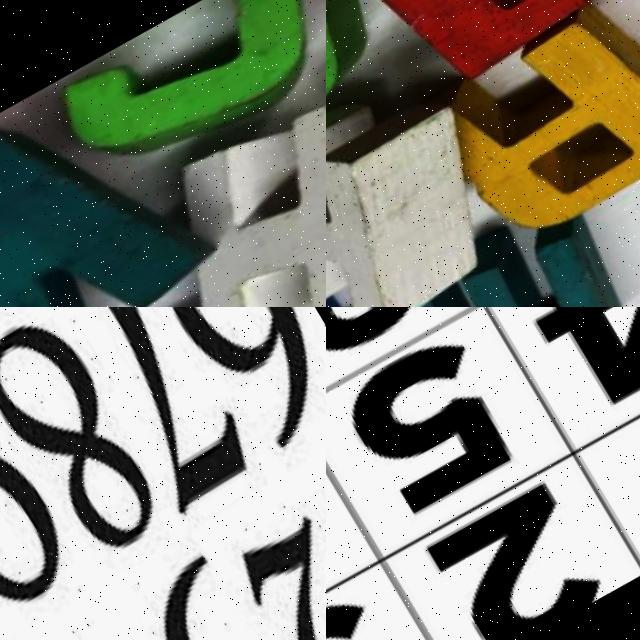2: (417, 462, 613, 640), (220, 491, 326, 640)
3: (123, 531, 326, 640), (326, 573, 419, 640)
4: (512, 307, 640, 415)
5: (328, 313, 525, 521)
6: (131, 307, 326, 467)
7: (45, 307, 268, 522)
8: (0, 307, 182, 573)
9: (0, 351, 92, 631)
H: (99, 14, 326, 307), (326, 57, 519, 307)
K: (0, 45, 258, 307)
M: (365, 180, 640, 307)
R: (381, 0, 640, 280)
